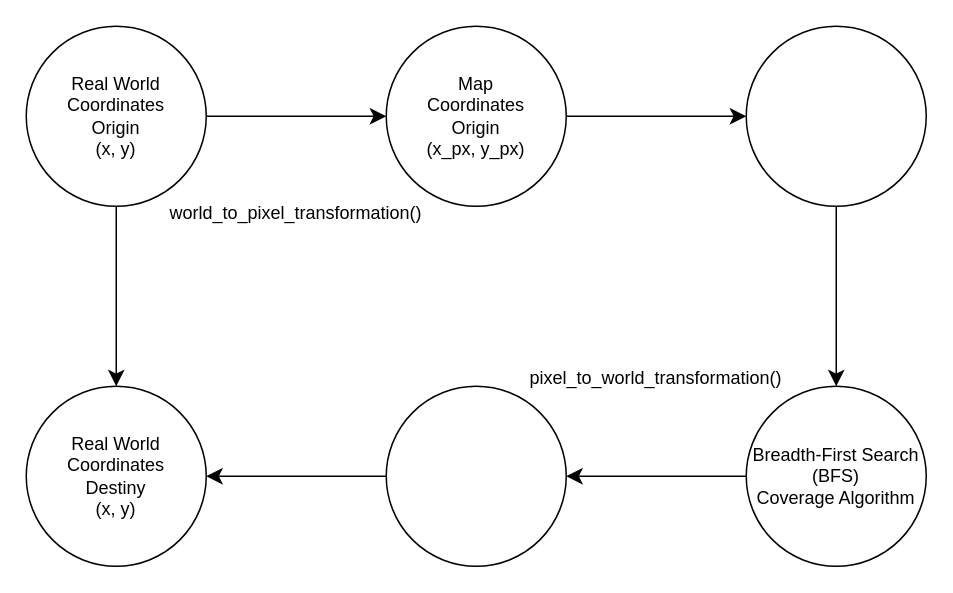
This 953x593 diagram has some shape labels left out. The shapes that lost their labels are listed below. From the top down, each one's centre as x and y in pixels, then its label:
pixel 835 115: Nearest Cell (33x33 pixels)
pixel 475 475: Map Coordinates Destiny (x_px, y_px)
